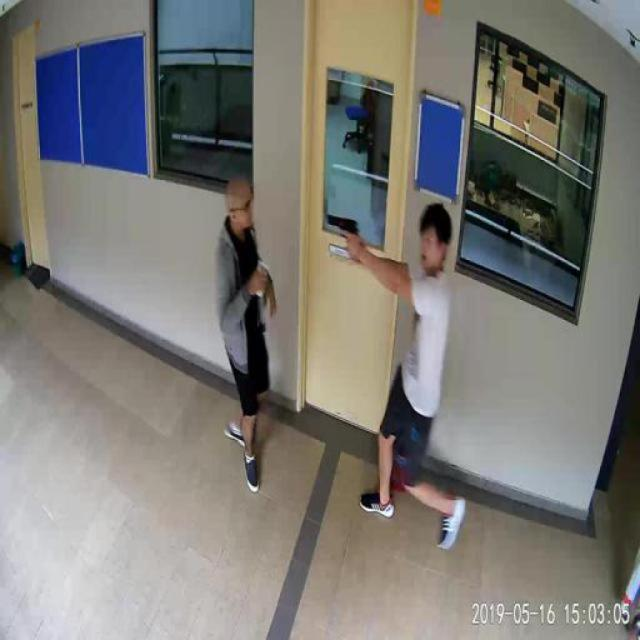pistol: (325, 211, 356, 250)
